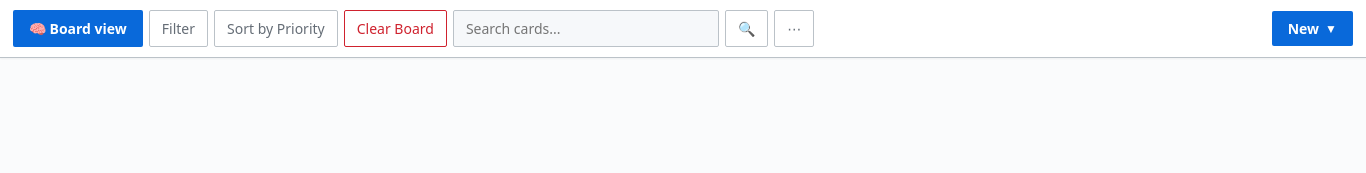
KanbanToolbar › New Card Modal Functionality › should close dropdown after clicking New Column
The width and height of the screenshot is (1366, 173).
Step 1. Click the button "New ▼" → [1312, 28], box [1272,11,1353,46]
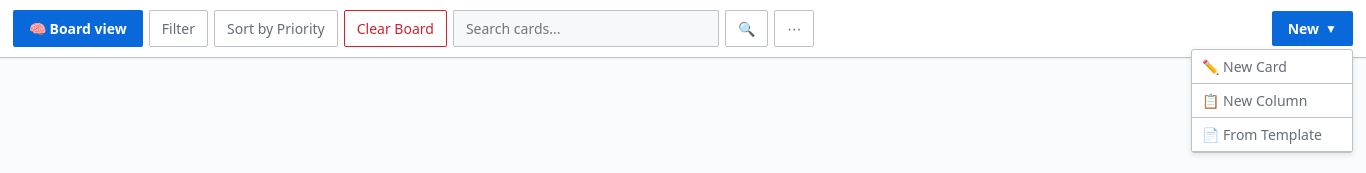
Step 2. Click the text "📋 New Column" → [1272, 101], box [1192,84,1352,118]
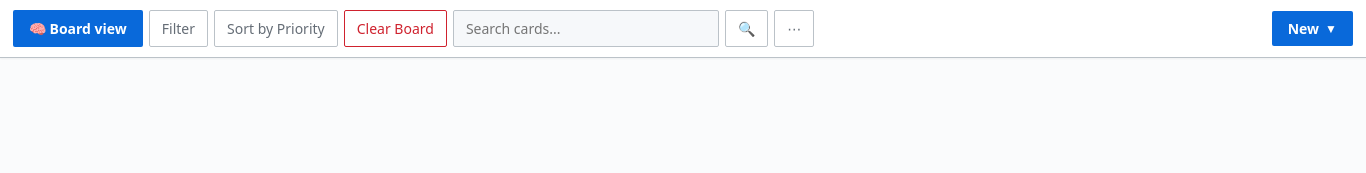
Expected: the text "📋 New Column" is gone
